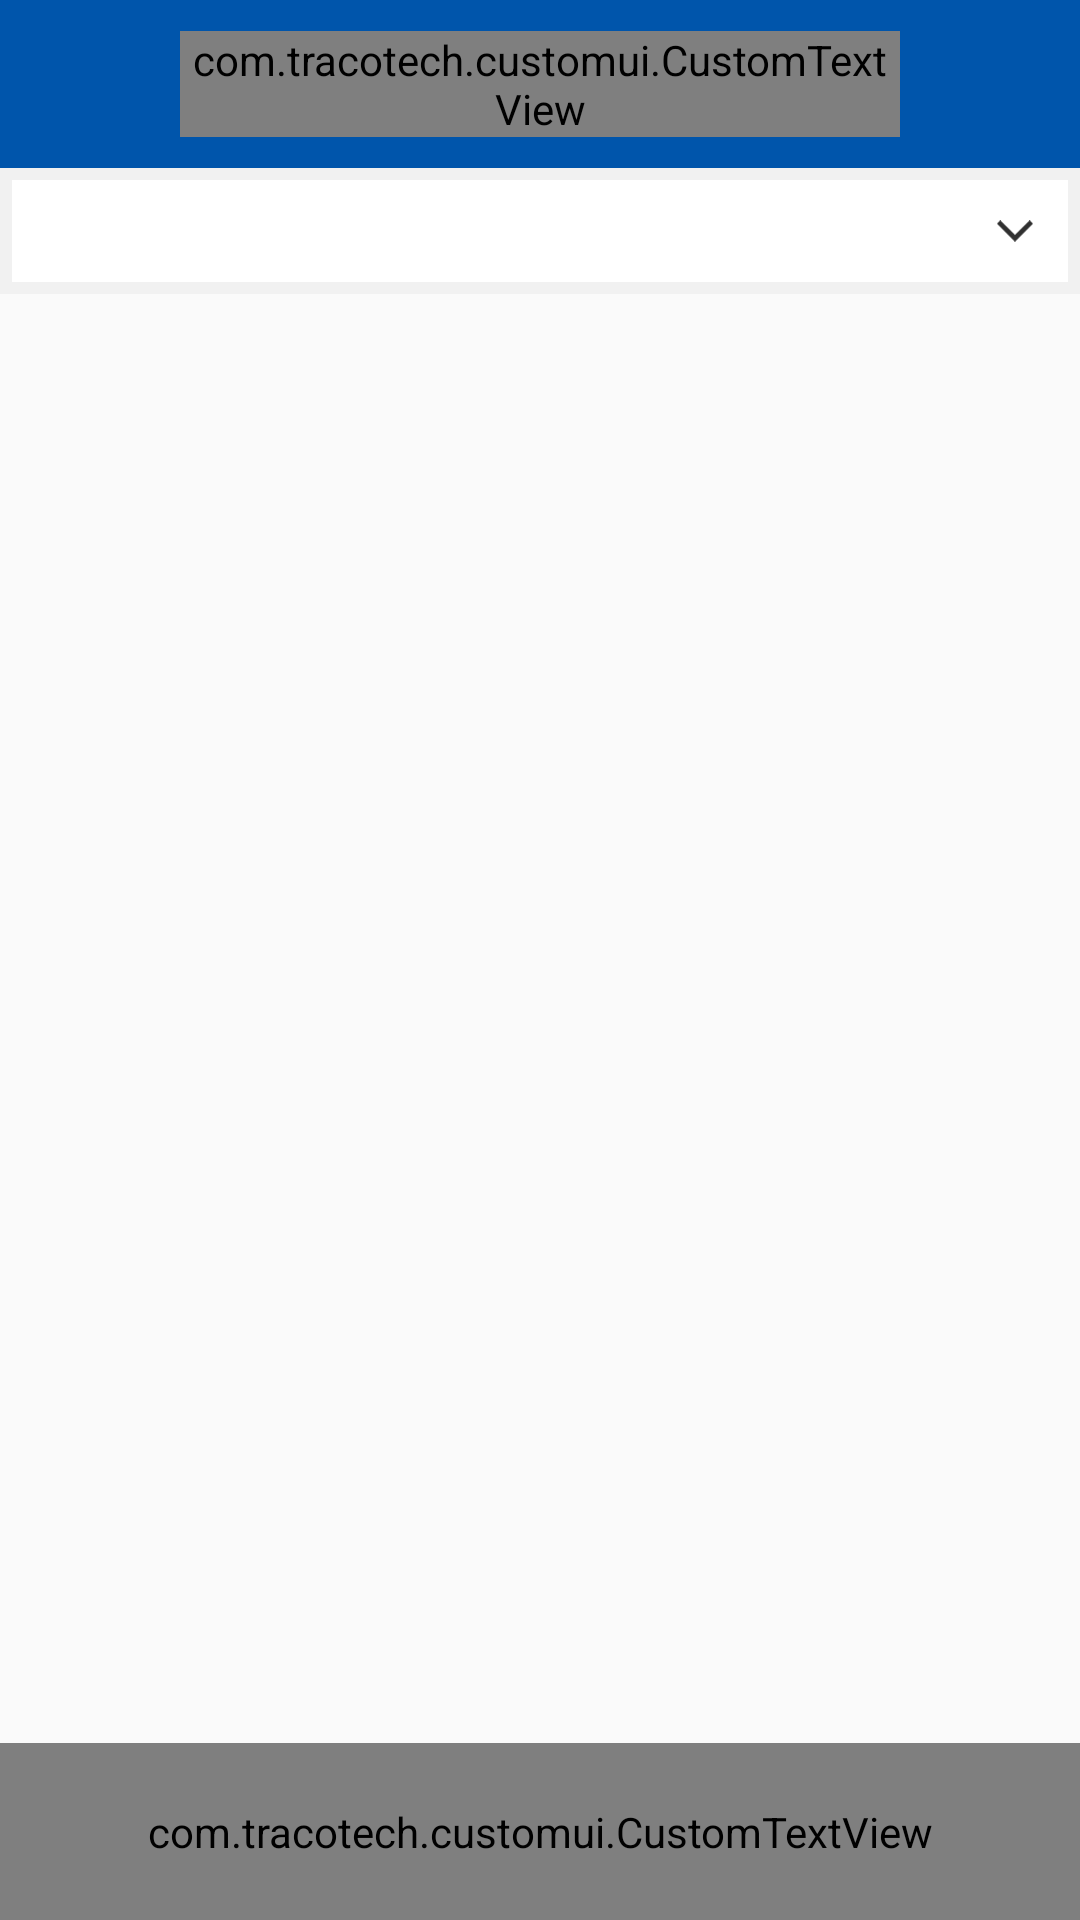

Icon click points for this 1080 × 1920 phone screenshot, format (x,y):
drop down: (1015,231)
